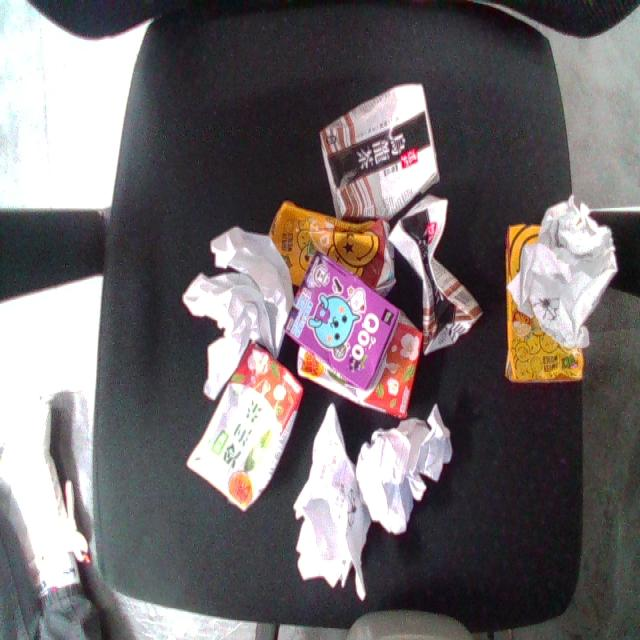juicebox: (254, 239, 447, 417), (167, 330, 330, 526), (295, 63, 458, 231), (368, 175, 504, 370)
paper: (251, 399, 388, 623), (322, 388, 487, 561), (179, 218, 298, 414), (504, 190, 622, 362)
